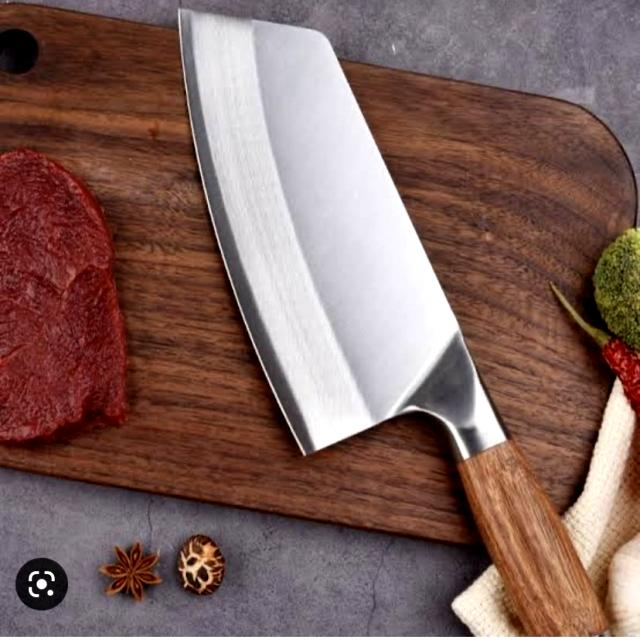knife: (170, 8, 609, 640)
